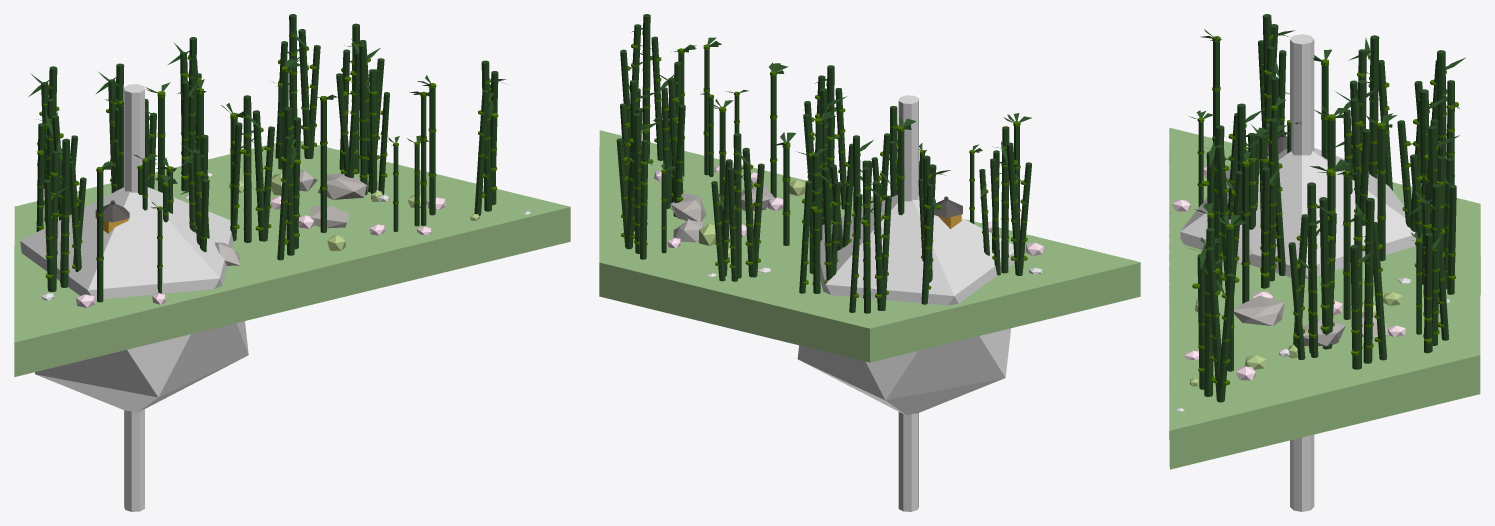
File: bamboo_half_sprint2.glb
3 views of the same model, side by side, from view 1: azimuth 30°, elevation 25°; view 2: azimuth 150°, elevation 25°; view 3: azimuth 270°, elevation 25° (orthographic). The views are drawn at different scales.
Visible parts, largest first — view 1: Cylinder.001, Low Poly Stone, Low Poly Bamboo Stalk.002, Low Poly Bamboo Stalk.063, Low Poly Bamboo Stalk.103, Low Poly Bamboo Stalk.087, Low Poly Bamboo Stalk.104, Low Poly Bamboo Stalk.096, BambooStalk_2_3.002, Rock_3, Low Poly Bamboo Stalk.098, BambooStalk_2_3.001 (+21 smaller); view 2: Cylinder.001, Low Poly Stone, Low Poly Bamboo Stalk.002, Low Poly Bamboo Stalk.107, Low Poly Bamboo Stalk.063, Low Poly Bamboo Stalk.053, Low Poly Bamboo Stalk.077, Low Poly Bamboo Stalk.099, Low Poly Bamboo Stalk.094, Low Poly Bamboo Stalk.093, Low Poly Bamboo Stalk.108, Low Poly Bamboo Stalk.064 (+24 smaller); view 3: Cylinder.001, Low Poly Stone, Low Poly Bamboo Stalk.002, Low Poly Bamboo Stalk.073, Low Poly Bamboo Stalk.069, Low Poly Bamboo Stalk.103, Rock_5, Low Poly Bamboo Stalk.077, Low Poly Bamboo Stalk.088, Low Poly Bamboo Stalk.100, BambooStalk_2_3.003, Low Poly Bamboo Stalk.099 (+51 smaller).
Part boxes in pixels (left/top/right/bottom): Cylinder.001: left=14, top=141, right=570, bottom=376; Low Poly Stone: left=20, top=187, right=248, bottom=412; Low Poly Bamboo Stalk.002: left=124, top=84, right=144, bottom=511; Low Poly Bamboo Stalk.063: left=60, top=138, right=69, bottom=287; Low Poly Bamboo Stalk.103: left=243, top=95, right=251, bottom=242; Low Poly Bamboo Stalk.087: left=359, top=43, right=367, bottom=195; Low Poly Bamboo Stalk.104: left=252, top=110, right=264, bottom=241; Low Poly Bamboo Stalk.096: left=298, top=29, right=310, bottom=158; BambooStalk_2_3.002: left=320, top=100, right=326, bottom=232; Rock_3: left=317, top=173, right=366, bottom=199; Low Poly Bamboo Stalk.098: left=474, top=90, right=488, bottom=216; BambooStalk_2_3.001: left=97, top=171, right=103, bottom=302; Cylinder.001: left=599, top=130, right=1140, bottom=362; Low Poly Stone: left=797, top=195, right=1014, bottom=415; Low Poly Bamboo Stalk.002: left=898, top=95, right=918, bottom=511; Low Poly Bamboo Stalk.107: left=863, top=167, right=870, bottom=313; Low Poly Bamboo Stalk.063: left=1001, top=126, right=1009, bottom=273; Low Poly Bamboo Stalk.053: left=812, top=153, right=820, bottom=293; Low Poly Bamboo Stalk.077: left=633, top=113, right=641, bottom=253; Low Poly Bamboo Stalk.099: left=642, top=14, right=650, bottom=159; Low Poly Bamboo Stalk.094: left=742, top=147, right=754, bottom=277; Low Poly Bamboo Stalk.093: left=733, top=133, right=741, bottom=278; Low Poly Bamboo Stalk.108: left=872, top=181, right=883, bottom=310; Low Poly Bamboo Stalk.064: left=1006, top=142, right=1019, bottom=274; Cylinder.001: left=1169, top=128, right=1480, bottom=469; Low Poly Stone: left=1180, top=148, right=1416, bottom=278; Low Poly Bamboo Stalk.002: left=1290, top=34, right=1314, bottom=511; Low Poly Bamboo Stalk.073: left=1363, top=197, right=1374, bottom=363; Low Poly Bamboo Stalk.069: left=1369, top=35, right=1379, bottom=178; Low Poly Bamboo Stalk.103: left=1268, top=118, right=1277, bottom=281; Rock_5: left=1234, top=295, right=1284, bottom=326; Low Poly Bamboo Stalk.077: left=1431, top=184, right=1440, bottom=345; Low Poly Bamboo Stalk.088: left=1319, top=197, right=1330, bottom=349; Low Poly Bamboo Stalk.100: left=1206, top=247, right=1221, bottom=399; BambooStalk_2_3.003: left=1343, top=176, right=1350, bottom=319; Low Poly Bamboo Stalk.099: left=1204, top=228, right=1214, bottom=396.
Size of the model in its own units: 5 by 3.6 by 2.17.
